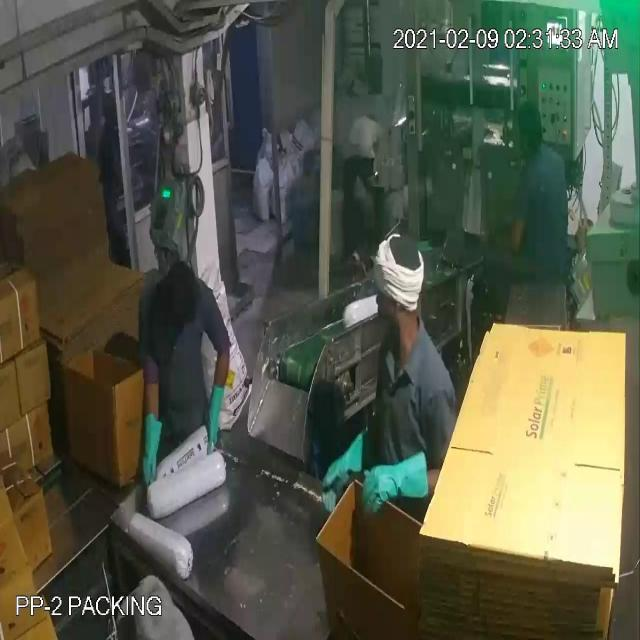Gloves: (40, 88, 393, 482)
